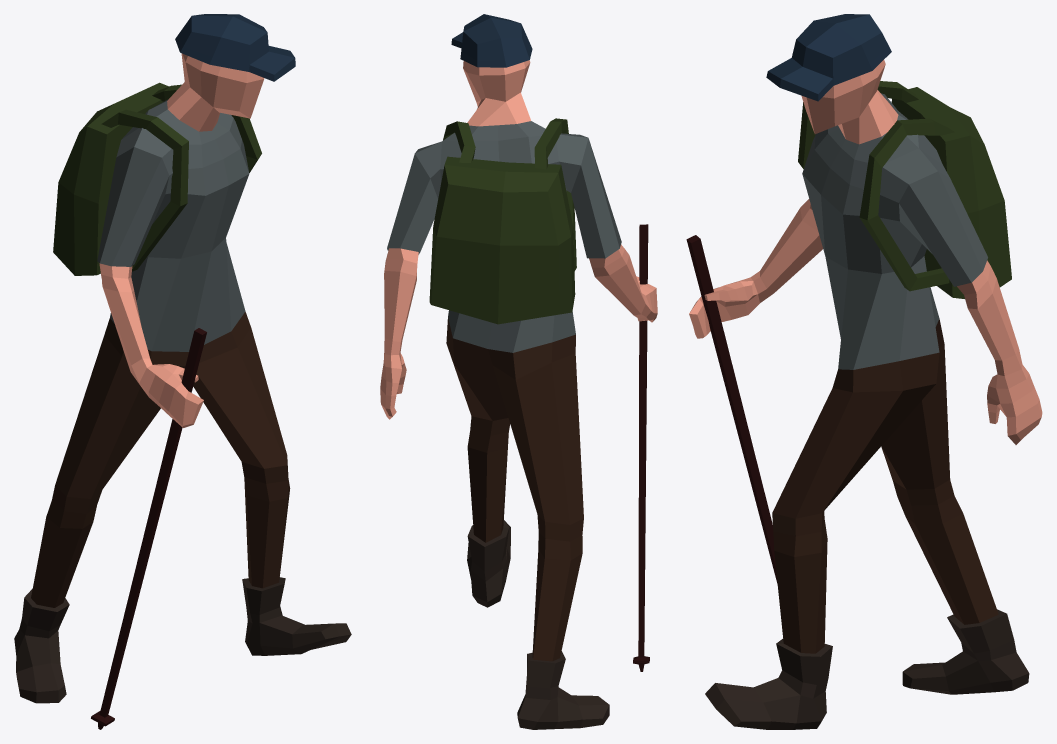
File: model_walk_00.FBX
The picture shows the model from 3 angles, left to right: view 1: azimuth 30°, elevation 25°; view 2: azimuth 150°, elevation 25°; view 3: azimuth 270°, elevation 25°; orthographic projection. The views are drawn at different scales.
Visible parts, largest first — view 1: Model_walk; view 2: Model_walk; view 3: Model_walk.
Part boxes in pixels (x1,y1,x2,y2): Model_walk: [14, 14, 351, 729]; Model_walk: [380, 14, 657, 729]; Model_walk: [686, 14, 1042, 729].
Size of the model in its own units: 13.23 by 36.59 by 15.95.
